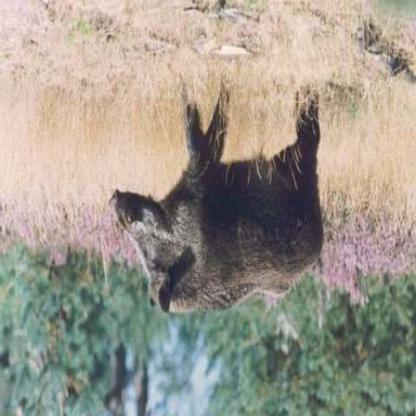boar: (97, 88, 344, 348)
